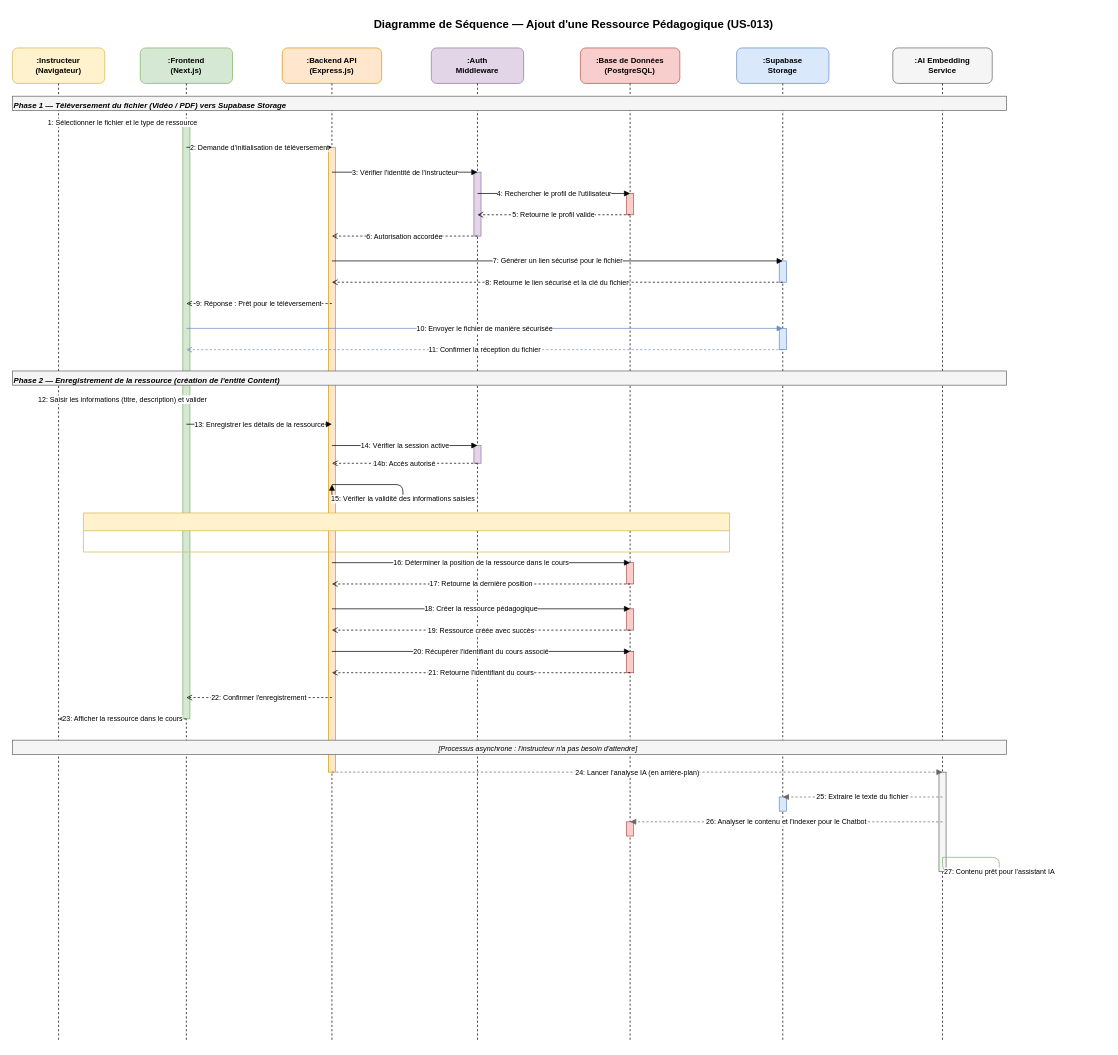
Some shapes in this 1118 by 1055 pixel diagram are drawn without their labels. The shapes that lost their labels are listed below. From the top down, each one's box as (x1, y1, x2, y2) in pixels, then its label:
(83, 512, 730, 552): [alt] Informations incomplètes ou incorrectes → Afficher une erreur
(12, 739, 1006, 754): Phase 3 — Génération des embeddings IA (traitement asynchrone en arrière-plan)
